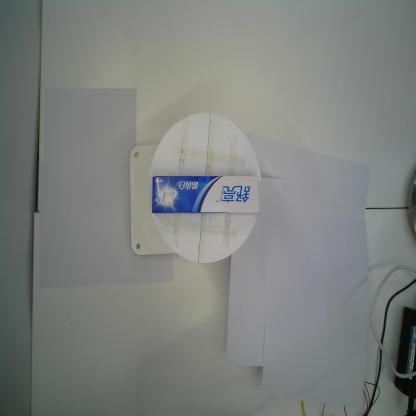Personal Hygiene: (149, 174, 260, 215)
